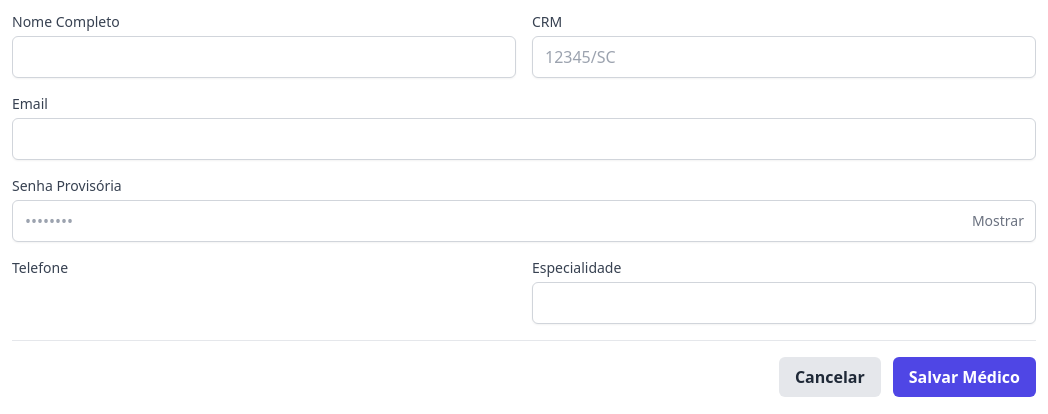
it: Componente AddMedicoForm › deve alternar visibilidade da senha ao clicar em Mostrar/Ocultar
Clica para mostrar
Click the button "Mostrar". click: (998, 221)
box: [972,211,1024,231]
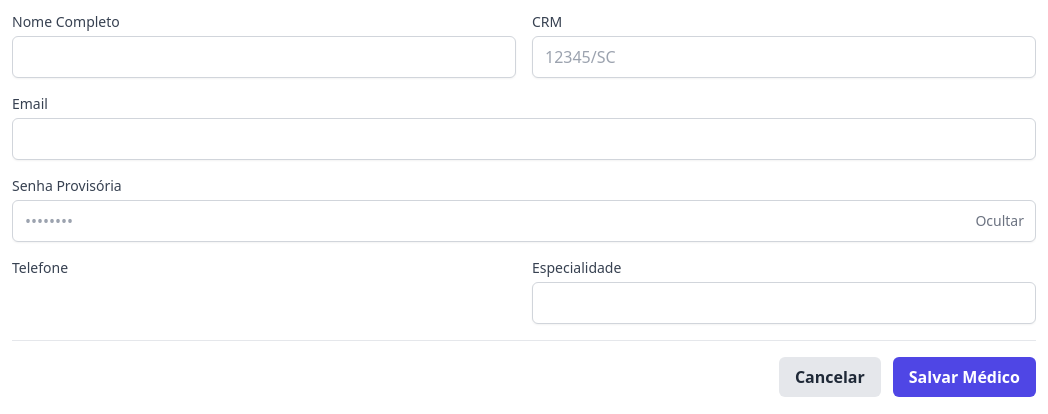
expect the button named "Mostrar" reads "Ocultar": met
Clica para ocultar novamente
Click the button named "Mostrar". click: (1000, 221)
box: [975,211,1024,231]
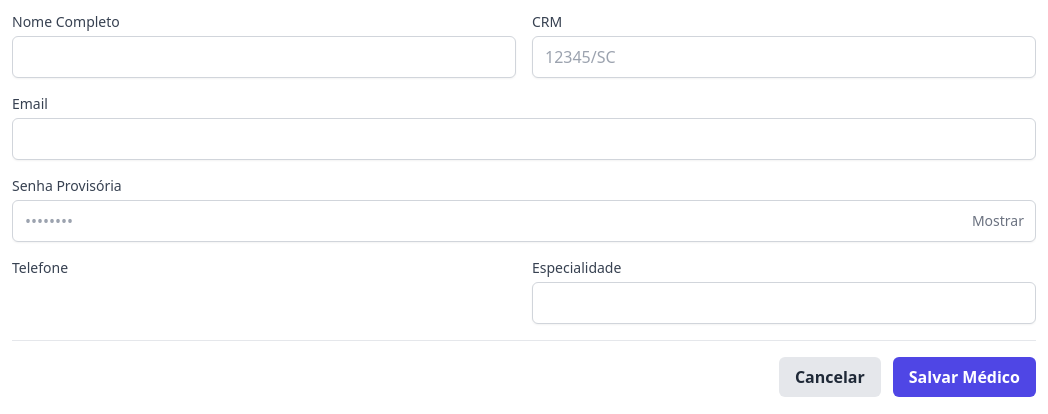
expect the button "Mostrar" is shown: met, box [972,211,1024,231]
